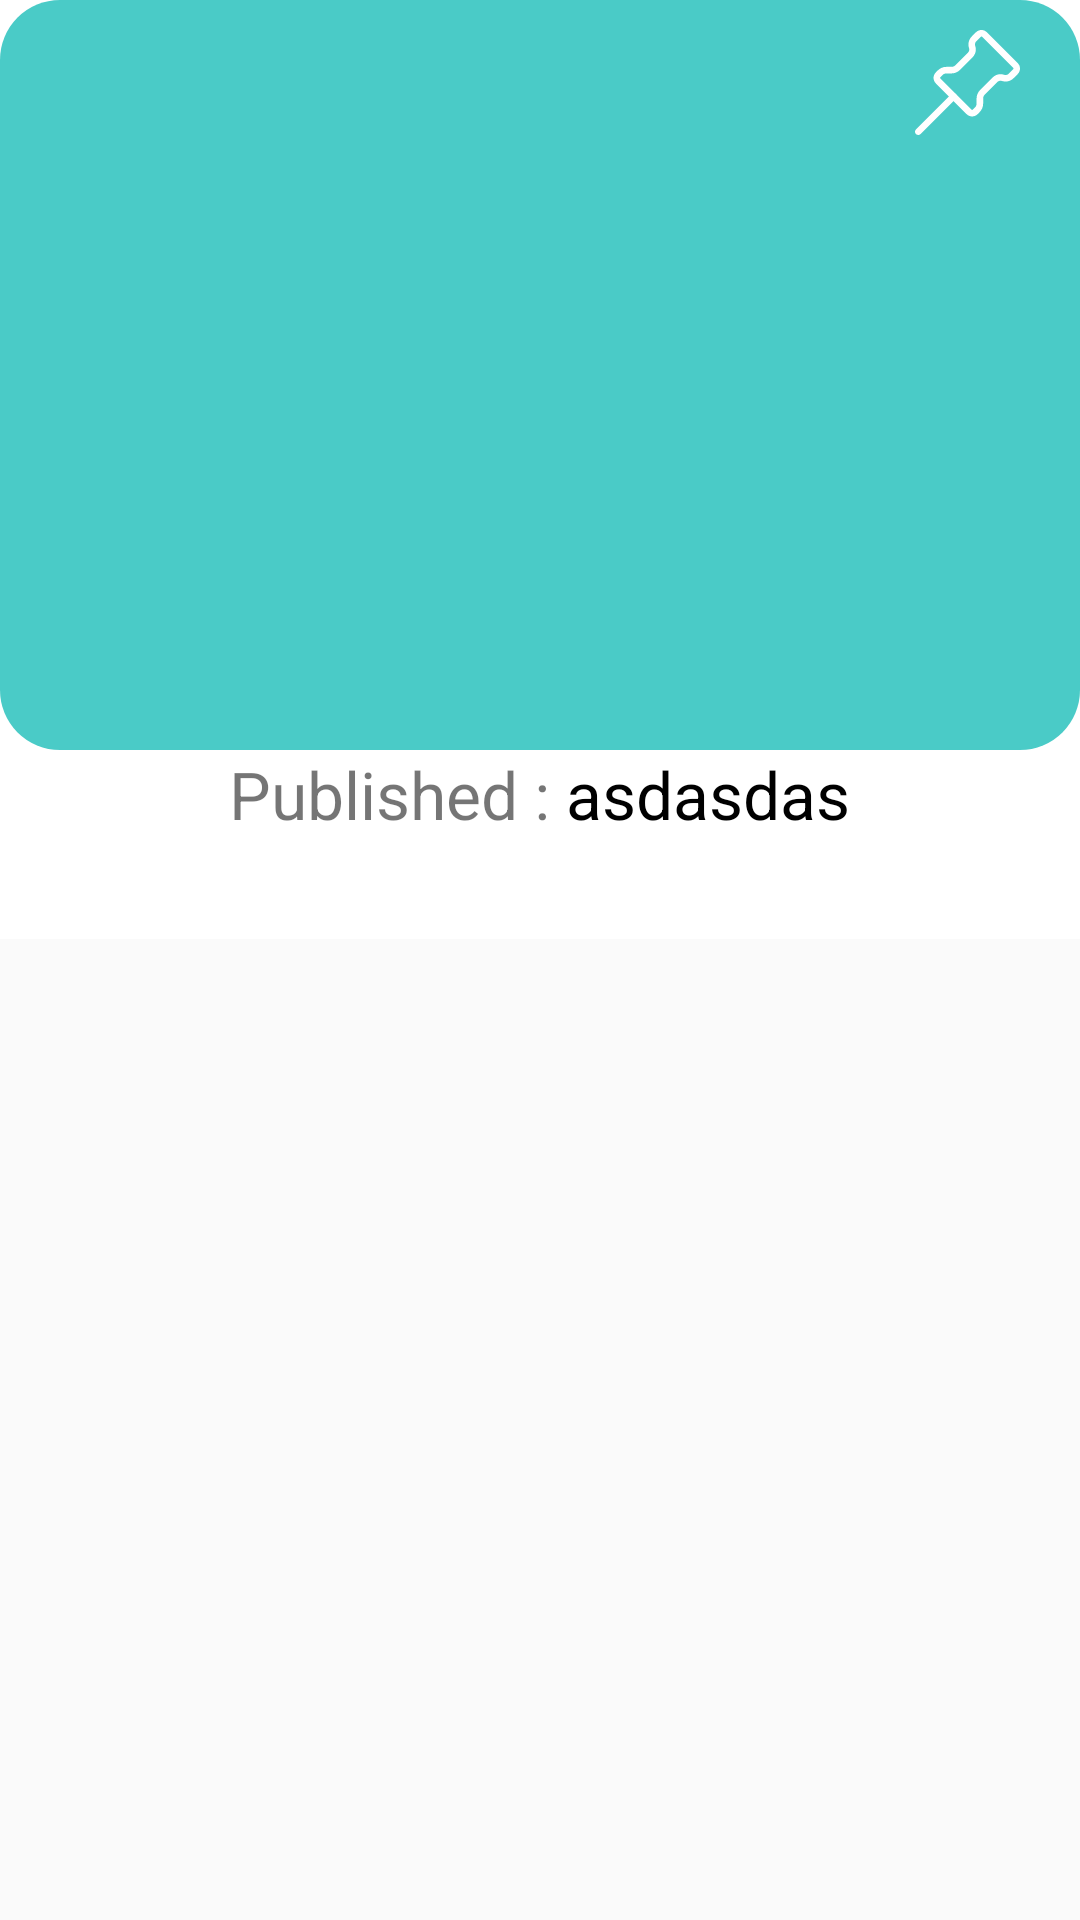

Named icons in this screenshot (1080*1920) and their bounding boxes, (x1, y1, x2, y2):
pin: (915, 30, 1020, 135)
